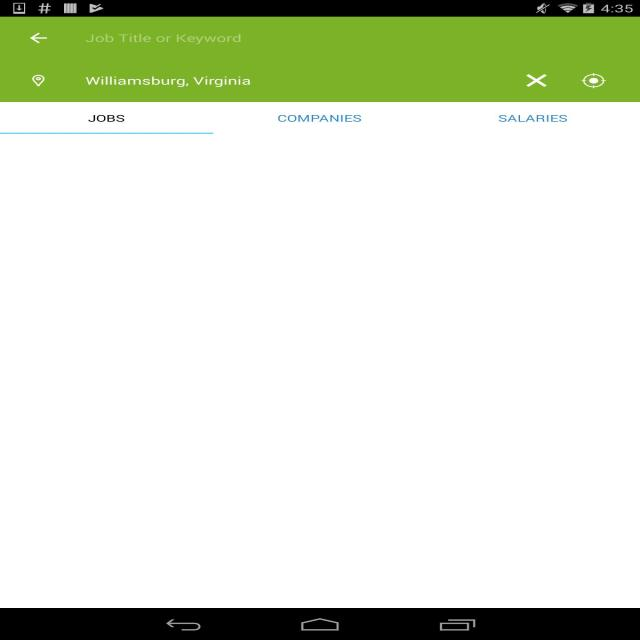button: (1, 103, 221, 134), (222, 104, 438, 134), (440, 105, 640, 135), (579, 66, 617, 95), (517, 69, 556, 94), (23, 29, 59, 52)
field: (69, 68, 569, 97), (73, 28, 635, 52)
image: (21, 67, 60, 98)
label: (84, 31, 246, 48)
text: (78, 69, 262, 94), (272, 110, 366, 123), (489, 111, 569, 125), (84, 110, 129, 124)
